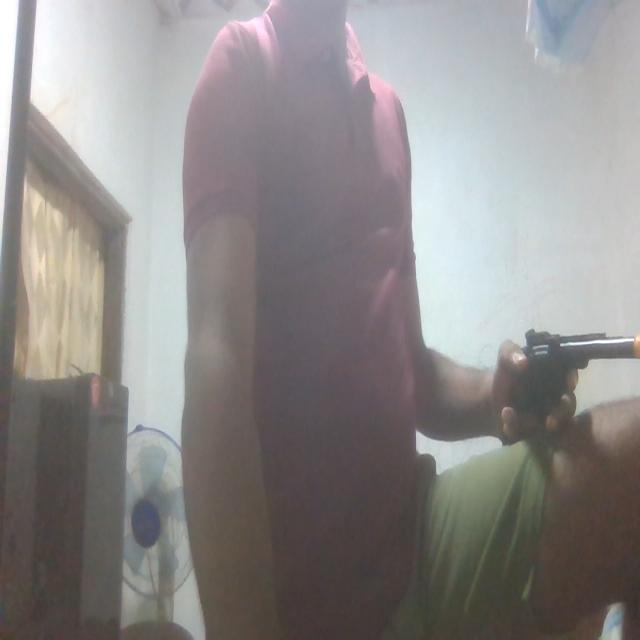Gun_Holder: (493, 311, 640, 421)
Person: (171, 0, 640, 640)
